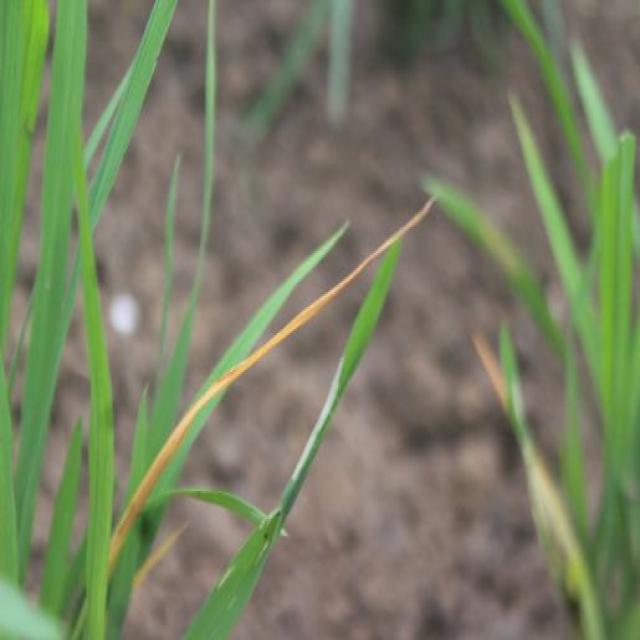Tungro: (112, 191, 445, 556), (472, 326, 514, 420)
